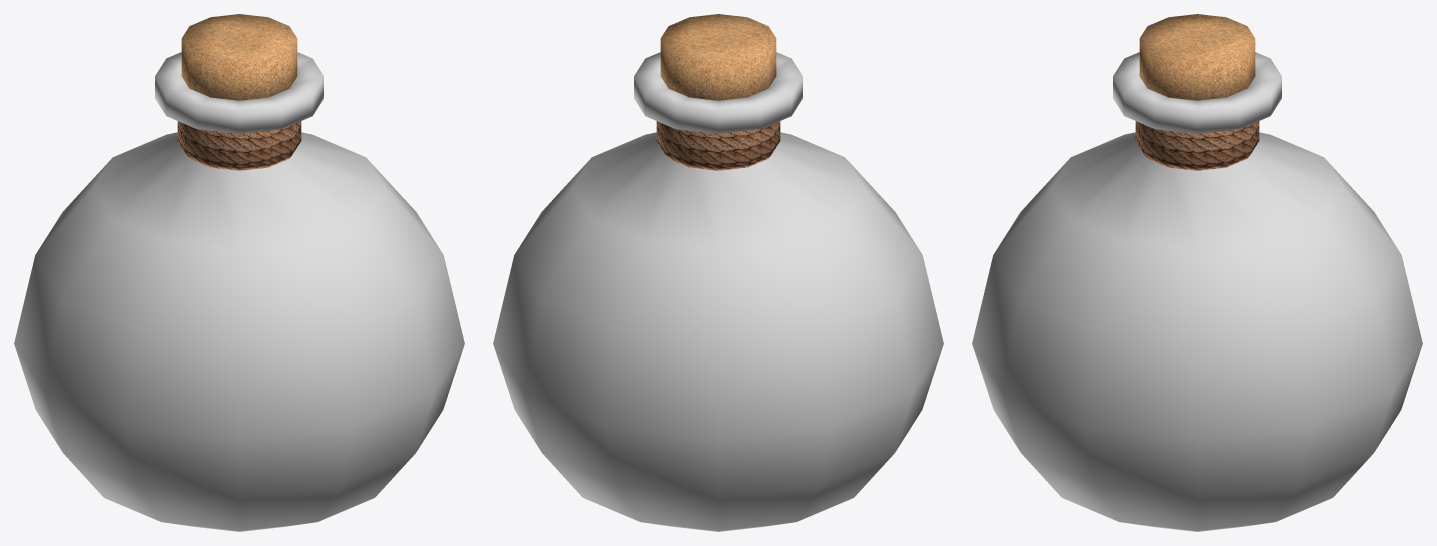
File: Heal Potion.glb
3 renders of one model, left to right at view 1: azimuth 30°, elevation 25°; view 2: azimuth 150°, elevation 25°; view 3: azimuth 270°, elevation 25°, orthographic.
Parts seen in each view (by area): view 1: Bottle, Cork, Rope; view 2: Bottle, Cork, Rope; view 3: Bottle, Cork, Rope.
Part boxes in pixels (x1,y1,x2,y2): Bottle: (14,52,464,531); Cork: (181,14,297,100); Rope: (177,121,301,170); Bottle: (493,52,943,531); Cork: (660,14,776,100); Rope: (656,121,780,170); Bottle: (972,52,1422,531); Cork: (1139,14,1255,100); Rope: (1135,121,1259,170).
Bounding box in the file's own units: 3.32 × 3.7 × 3.32.
4 materials, 2 textured.
